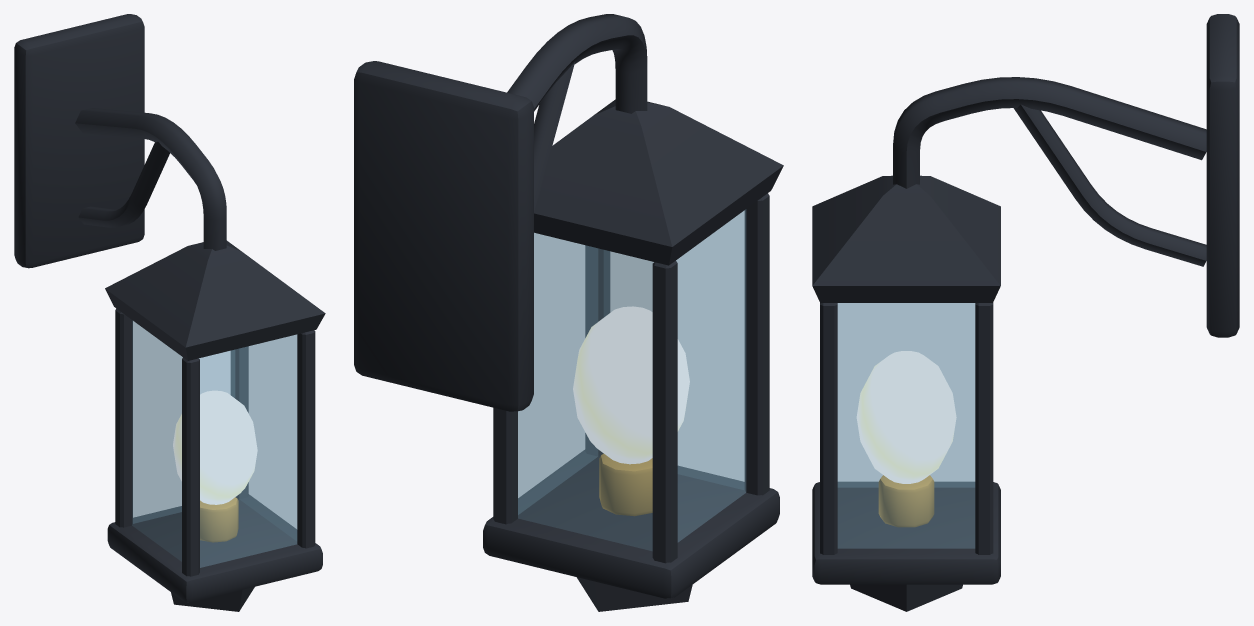
The model's file is luminaria_fachada.glb.
3 renders of one model, left to right at view 1: azimuth 30°, elevation 25°; view 2: azimuth 150°, elevation 25°; view 3: azimuth 270°, elevation 25°, orthographic. The views are drawn at different scales.
Visible parts, largest first — view 1: luminaria_fachada; view 2: luminaria_fachada; view 3: luminaria_fachada.
Boxes of the visible parts, x1=… form: luminaria_fachada: x1=14, y1=14, x2=325, y2=611; luminaria_fachada: x1=354, y1=14, x2=783, y2=611; luminaria_fachada: x1=812, y1=14, x2=1239, y2=611.
Size of the model in its own units: 0.17 by 0.54 by 0.385.
3 materials, 1 textured.
